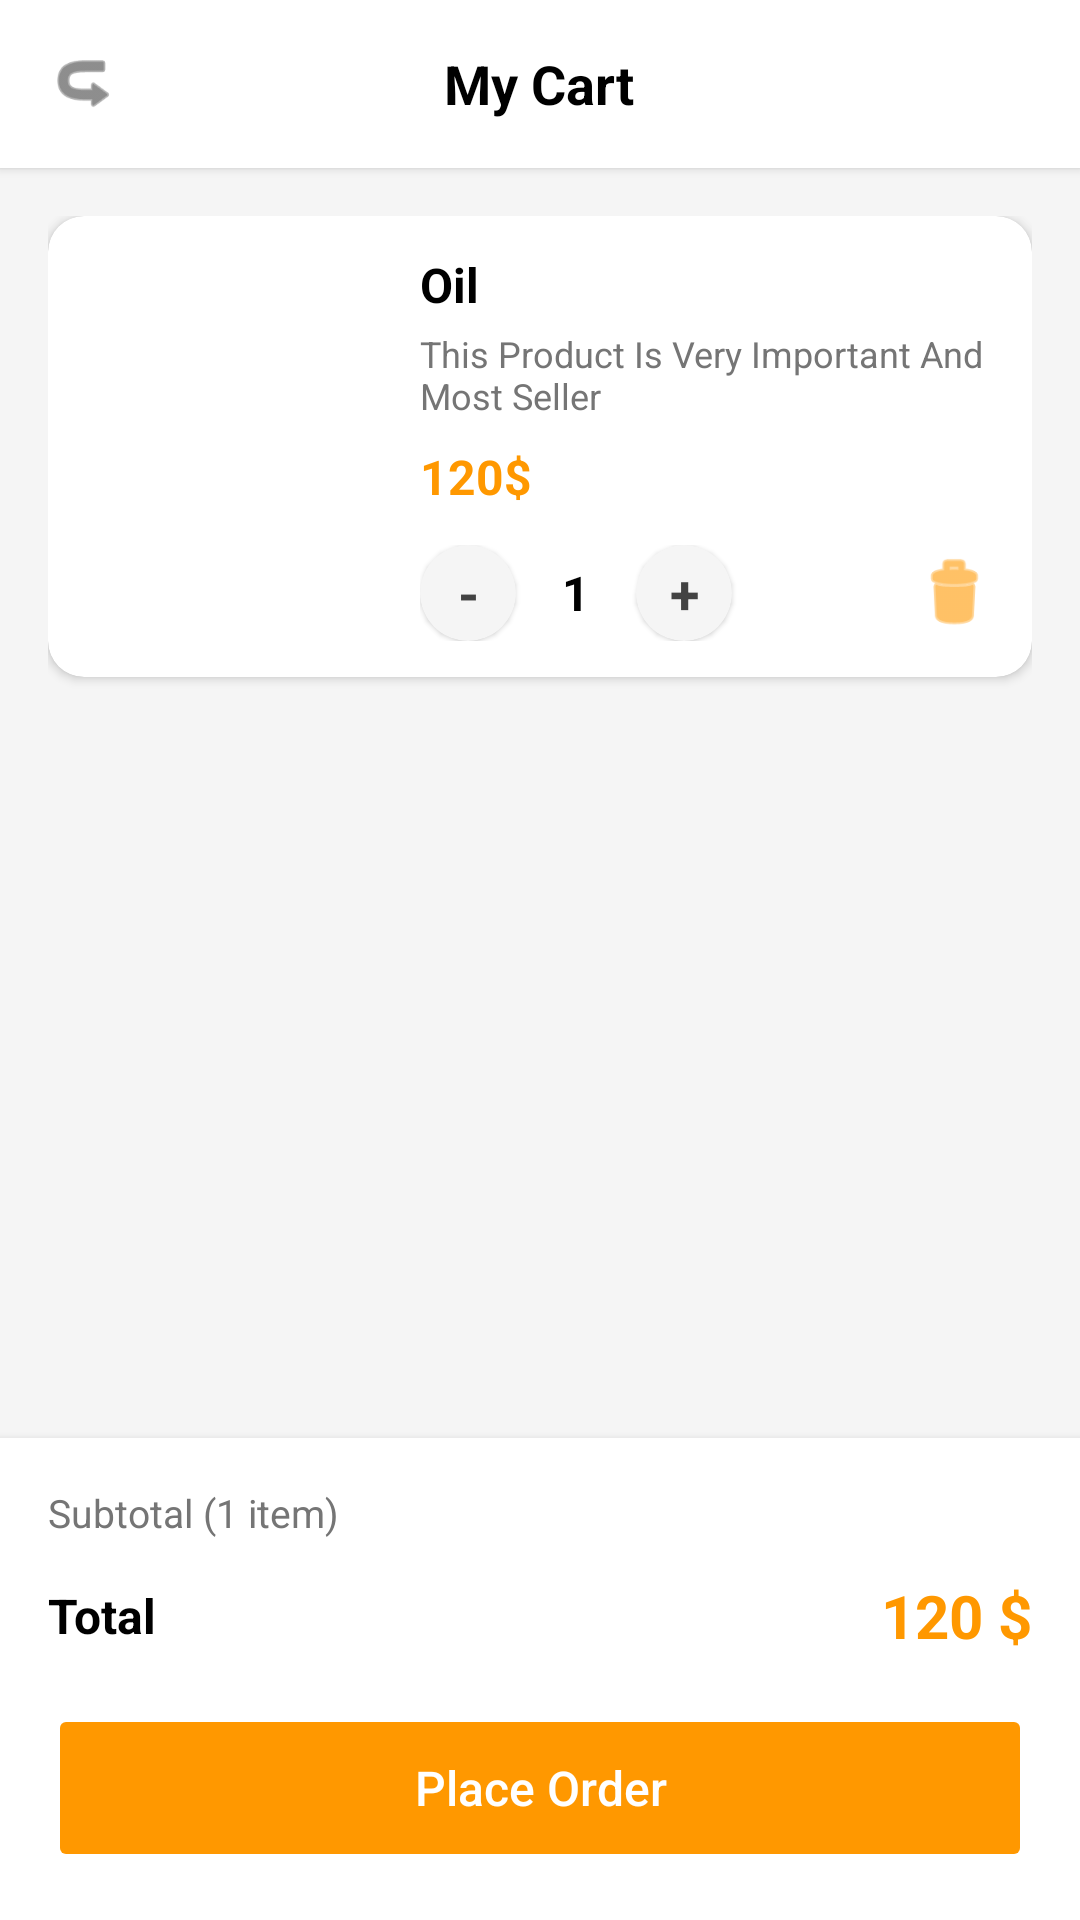

Screen size 1080 × 1920. Icon name, then its box in pixels as {"left": x1, "top": y1, "right": x2, "bottom": y2}:
delete item: {"left": 931, "top": 559, "right": 978, "bottom": 625}
